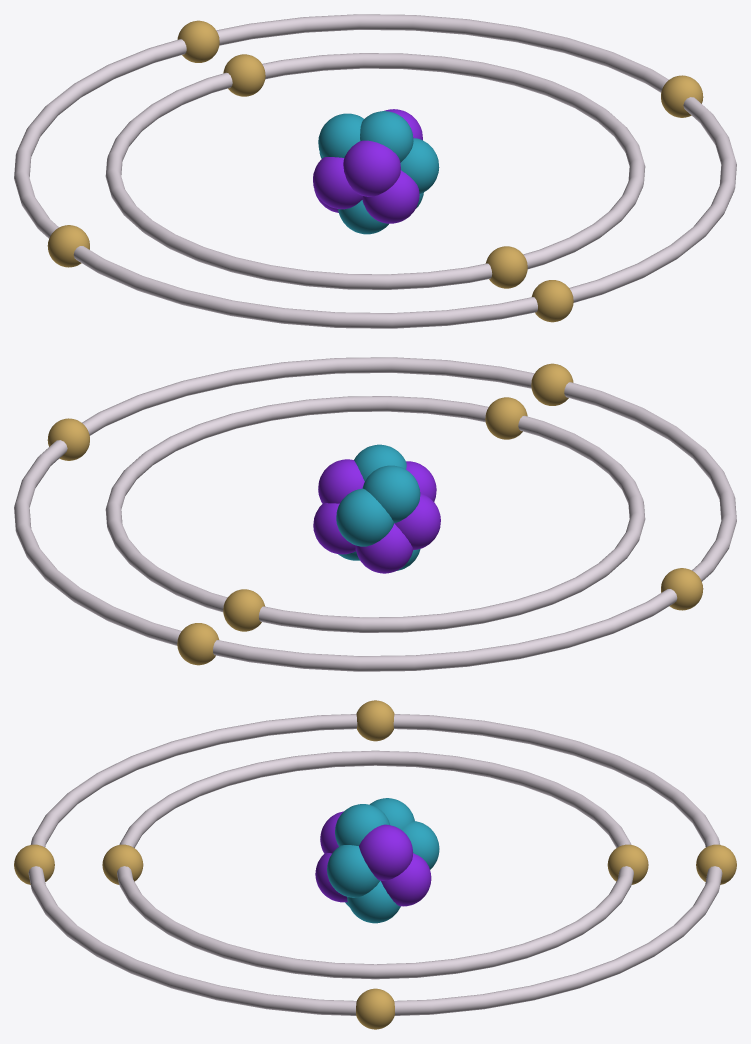
File: carbono.glb
3 renders of one model, top to bottom at view 1: azimuth 30°, elevation 25°; view 2: azimuth 150°, elevation 25°; view 3: azimuth 270°, elevation 25°, orthographic. The views are drawn at different scales.
Parts seen in each view (by area): view 1: Orbita_2, Orbita_1, Nucleo_Completo, Eletron_1, Eletron_C2_1, Eletron_2, Eletron_C3_3, Eletron_C3_4, Eletron_C2_2; view 2: Orbita_2, Orbita_1, Nucleo_Completo, Eletron_2, Eletron_C3_3, Eletron_1, Eletron_C2_1, Eletron_C3_4, Eletron_C2_2; view 3: Orbita_2, Orbita_1, Nucleo_Completo, Eletron_C2_2, Eletron_C3_4, Eletron_1, Eletron_2, Eletron_C2_1, Eletron_C3_3.
Part boxes in pixels (x1=…): Orbita_2: x1=14, y1=14, x2=736, y2=328; Orbita_1: x1=105, y1=53, x2=645, y2=289; Nucleo_Completo: x1=313, y1=109, x2=439, y2=234; Eletron_1: x1=485, y1=246, x2=527, y2=288; Eletron_C2_1: x1=531, y1=280, x2=573, y2=322; Eletron_2: x1=223, y1=54, x2=265, y2=96; Eletron_C3_3: x1=177, y1=20, x2=219, y2=62; Eletron_C3_4: x1=47, y1=225, x2=89, y2=267; Eletron_C2_2: x1=661, y1=75, x2=703, y2=117; Orbita_2: x1=14, y1=357, x2=736, y2=671; Orbita_1: x1=105, y1=396, x2=645, y2=632; Nucleo_Completo: x1=313, y1=444, x2=440, y2=573; Eletron_2: x1=223, y1=589, x2=265, y2=631; Eletron_C3_3: x1=177, y1=623, x2=219, y2=665; Eletron_1: x1=485, y1=397, x2=527, y2=439; Eletron_C2_1: x1=531, y1=363, x2=573, y2=405; Eletron_C3_4: x1=661, y1=568, x2=703, y2=610; Eletron_C2_2: x1=47, y1=418, x2=89, y2=460; Orbita_2: x1=28, y1=714, x2=722, y2=1015; Orbita_1: x1=117, y1=750, x2=633, y2=979; Nucleo_Completo: x1=315, y1=798, x2=439, y2=923; Eletron_C2_2: x1=356, y1=988, x2=394, y2=1029; Eletron_C3_4: x1=356, y1=700, x2=394, y2=741; Eletron_1: x1=102, y1=844, x2=143, y2=884; Eletron_2: x1=607, y1=844, x2=648, y2=884; Eletron_C2_1: x1=14, y1=844, x2=54, y2=884; Eletron_C3_3: x1=696, y1=844, x2=736, y2=884.
Bounding box in the file's own units: 2.86 × 0.488 × 2.86.
